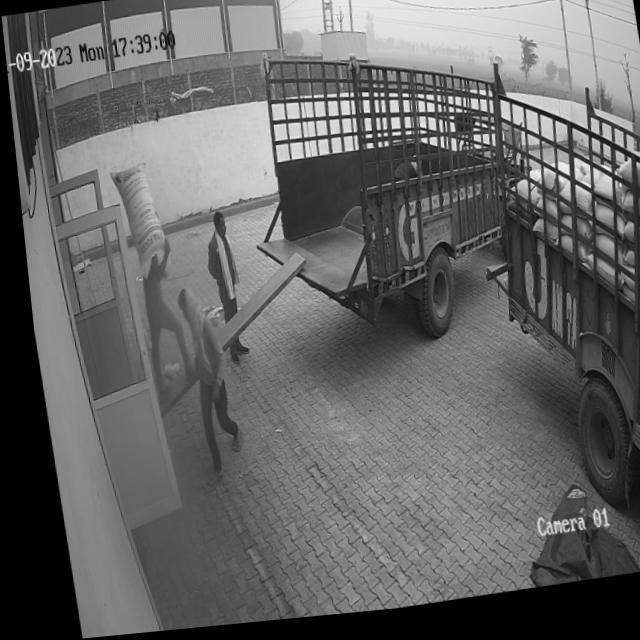sack: (104, 164, 164, 283)
